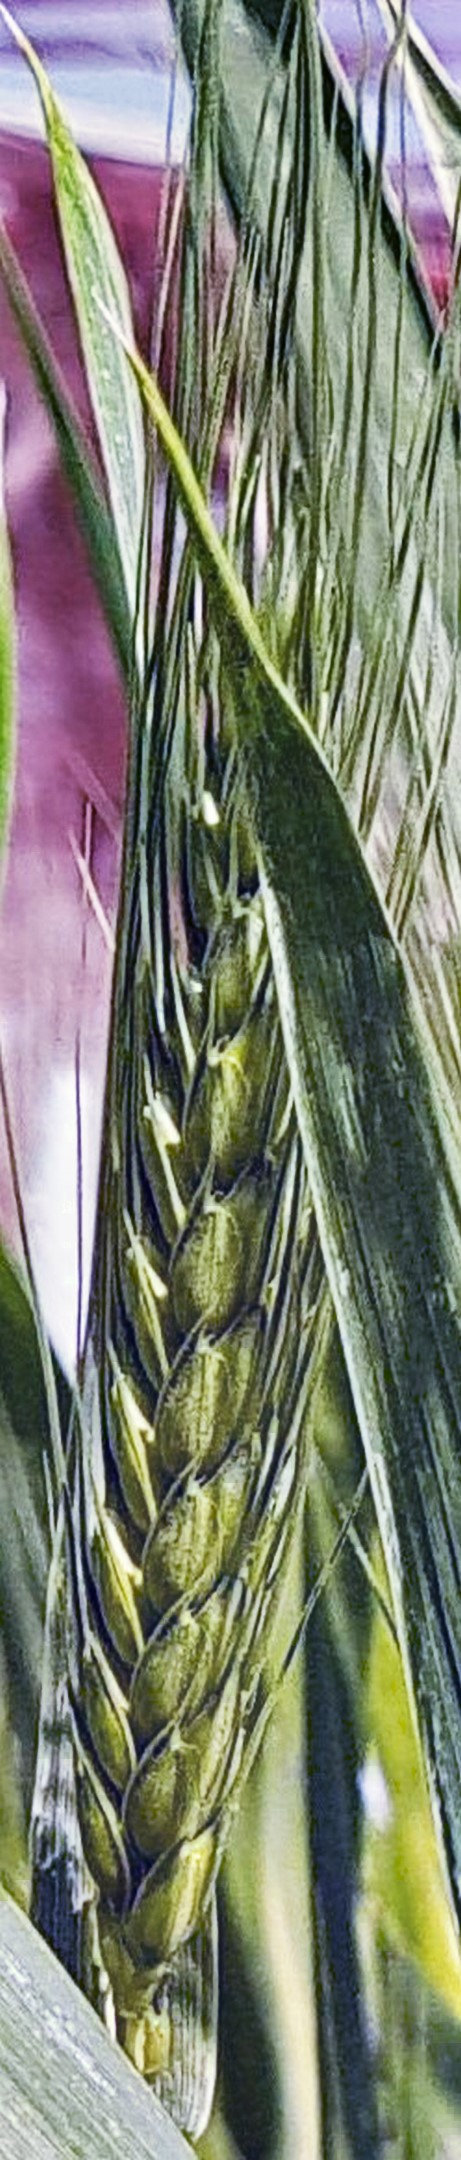Healthy Wheat: (65, 591, 380, 1938)
